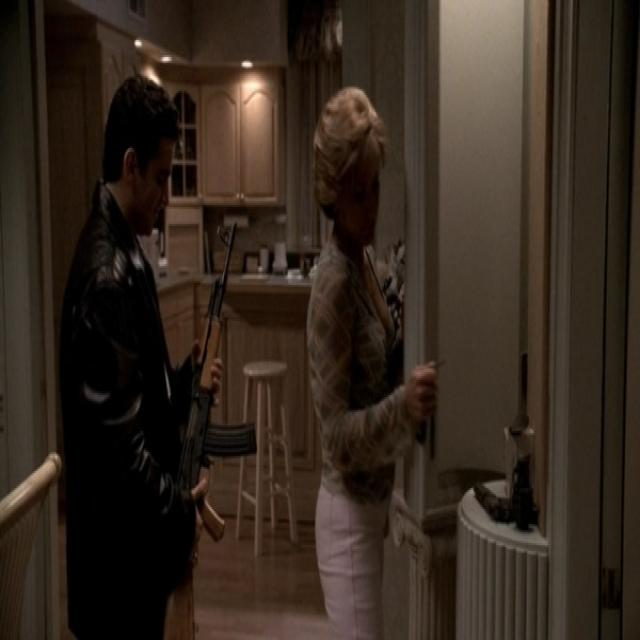rifle: (169, 212, 259, 545)
